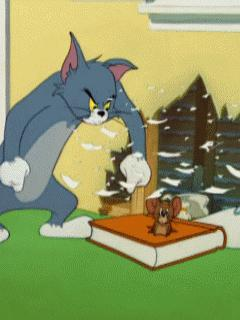jerry: (145, 197, 183, 236)
